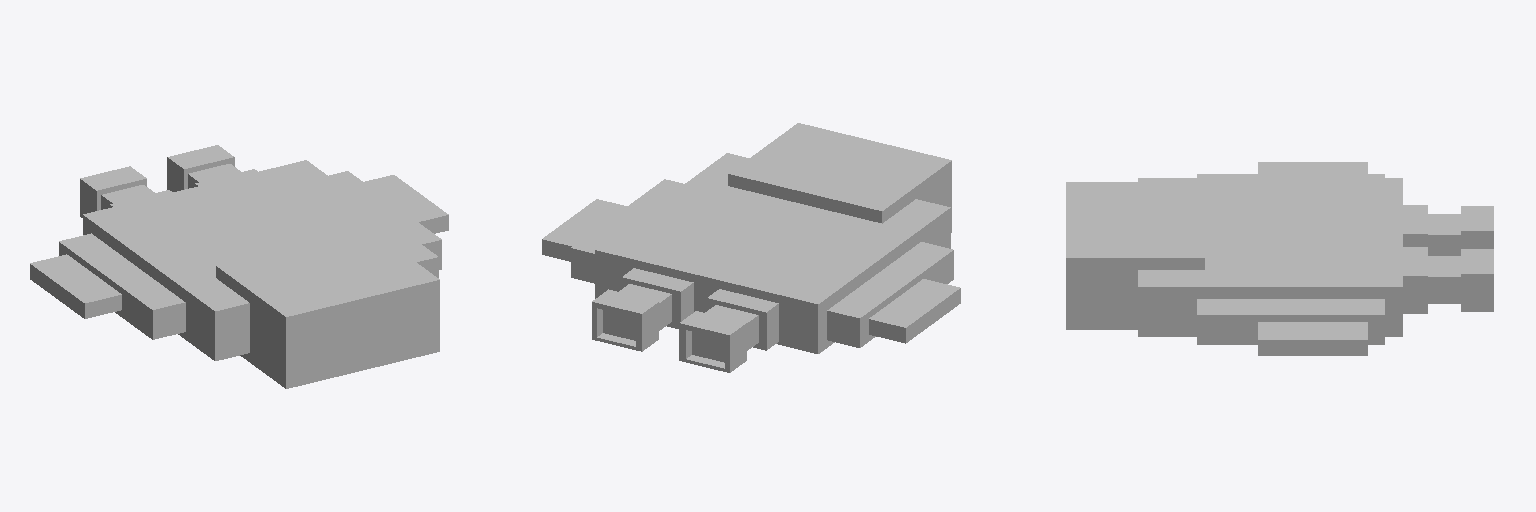
The model's file is Test Model Ship 01.obj.
The picture shows the model from 3 angles: view 1: azimuth 30°, elevation 25°; view 2: azimuth 150°, elevation 25°; view 3: azimuth 270°, elevation 25°; orthographic projection.
Visible parts, largest first — view 1: Mesh1 Model; view 2: Mesh1 Model; view 3: Mesh1 Model.
Boxes of the visible parts, <box> form: Mesh1 Model: <box>30,145,448,388</box>; Mesh1 Model: <box>542,123,960,372</box>; Mesh1 Model: <box>1066,162,1493,355</box>.
Bounding box in the file's own units: 226 × 42.62 × 230.